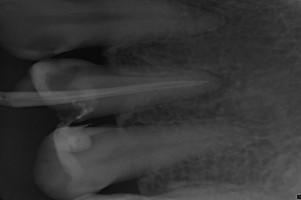Furcation Involvement: (194, 69, 233, 102)
